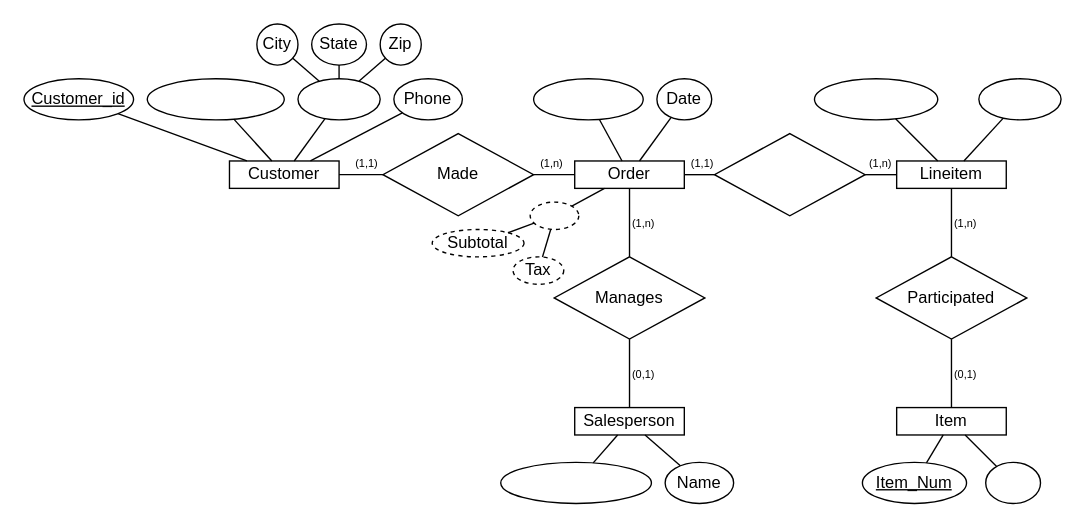
Some shapes in this 1085 by 527 pixel diagram are drawn without their labels. Here are the shapes that lost their labels. From the top down, the centre of each, then its label:
(215,98): Customer_Name
(338,98): Address
(587,98): Order_num
(875,98): Lineitem_num
(1019,98): Quantity
(789,174): Contained
(554,215): Total
(575,482): Salesperson_code
(1012,482): Price
